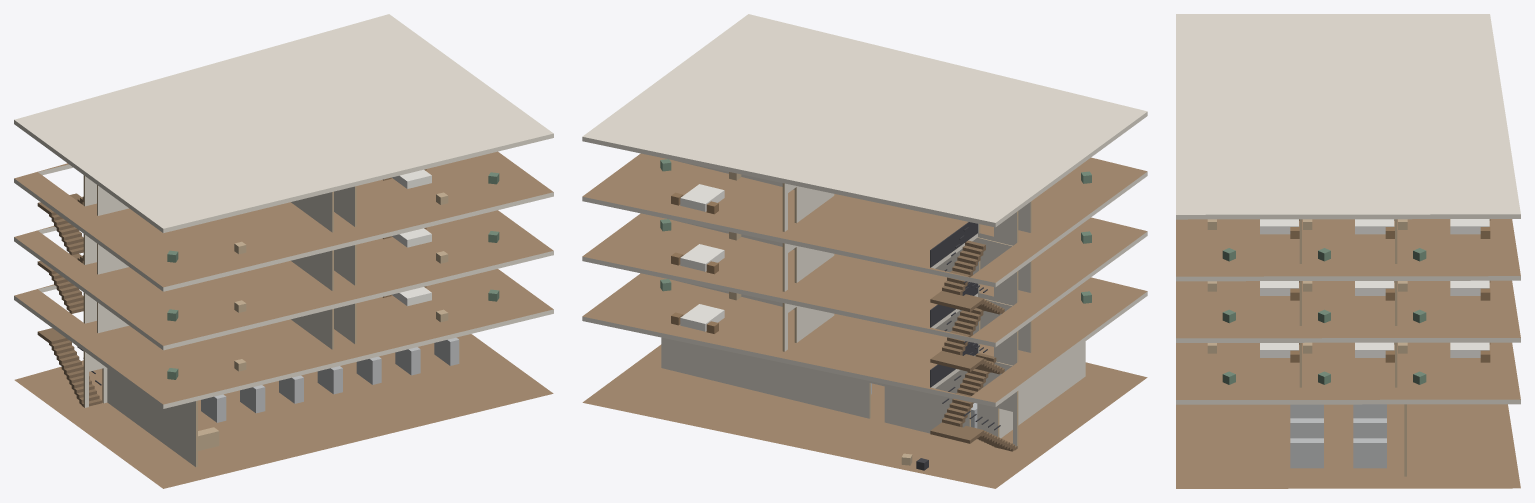
Rendered from interior.glb.
3 renders of one model, left to right at view 1: azimuth 30°, elevation 25°; view 2: azimuth 150°, elevation 25°; view 3: azimuth 270°, elevation 25°, orthographic. The views are drawn at different scales.
Parts seen in each view (by area): view 1: slabs, partitions, coarse-s0, stair, coarse-s1, coarse-s2, coarse-s3; view 2: slabs, partitions, stair, coarse-s3, coarse-s2, coarse-s1; view 3: slabs, coarse-s0, coarse-s1, coarse-s3, coarse-s2, partitions.
Boxes of the visible parts, <box> form: slabs: <box>14,14,553,488</box>; partitions: <box>83,175,356,467</box>; coarse-s0: <box>198,337,459,450</box>; stair: <box>37,193,101,407</box>; coarse-s1: <box>167,286,499,379</box>; coarse-s2: <box>167,227,499,321</box>; coarse-s3: <box>167,169,499,262</box>; slabs: <box>582,14,1147,488</box>; partitions: <box>661,160,1085,447</box>; stair: <box>930,222,1017,451</box>; coarse-s3: <box>660,159,1091,214</box>; coarse-s2: <box>660,219,1091,274</box>; coarse-s1: <box>660,279,1091,333</box>; slabs: <box>1176,14,1520,488</box>; coarse-s0: <box>1290,404,1386,468</box>; coarse-s1: <box>1207,342,1490,384</box>; coarse-s3: <box>1207,219,1490,261</box>; coarse-s2: <box>1207,280,1490,323</box>; partitions: <box>1299,219,1406,476</box>.
Bounding box in the file's own units: 24.14 × 15.38 × 17.51.
